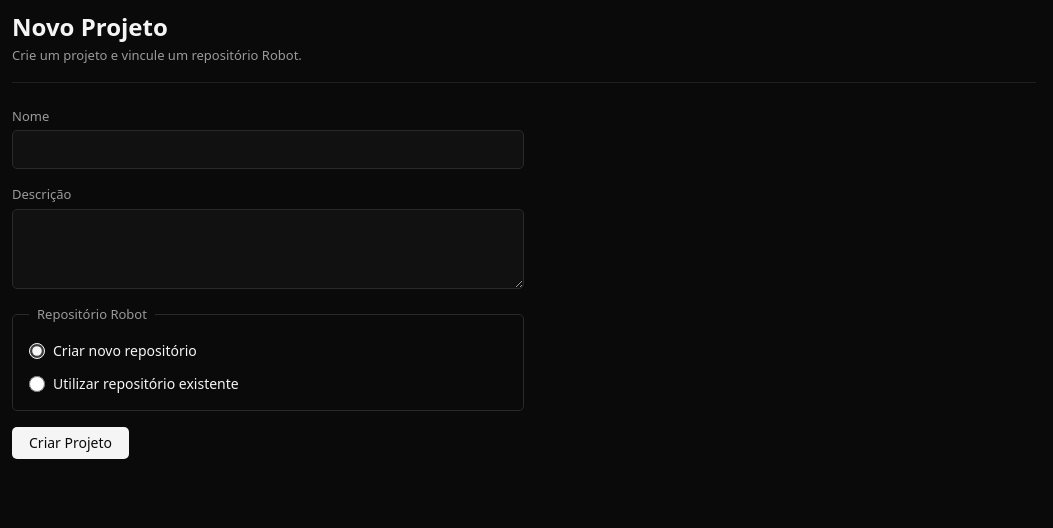
Test: NewProjectScreen (PRD §6, §14) › surfaces a validation error when the existing repo is invalid
Type "Banco" into the field labelled "Nome" at [268, 150], box [12,130,524,169]
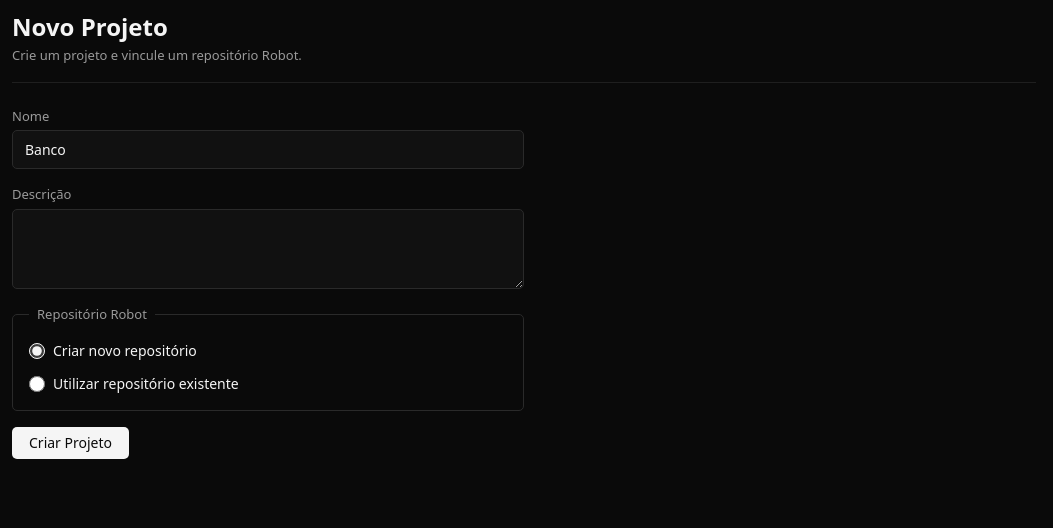
Click the radio button labelled "Utilizar repositório existente" at [37, 384], box [29,376,45,392]
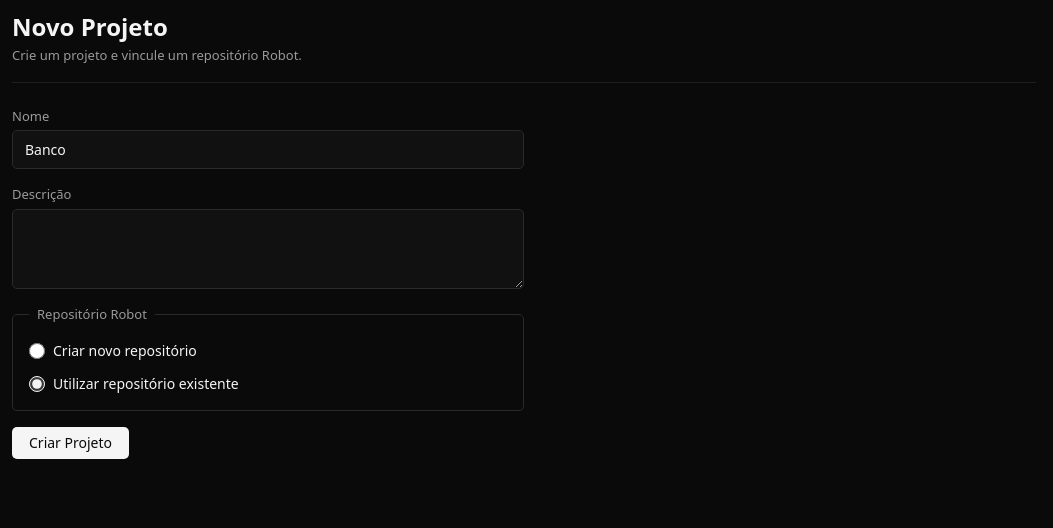
Click the button "Criar Projeto" at [70, 443], box [12,427,129,459]
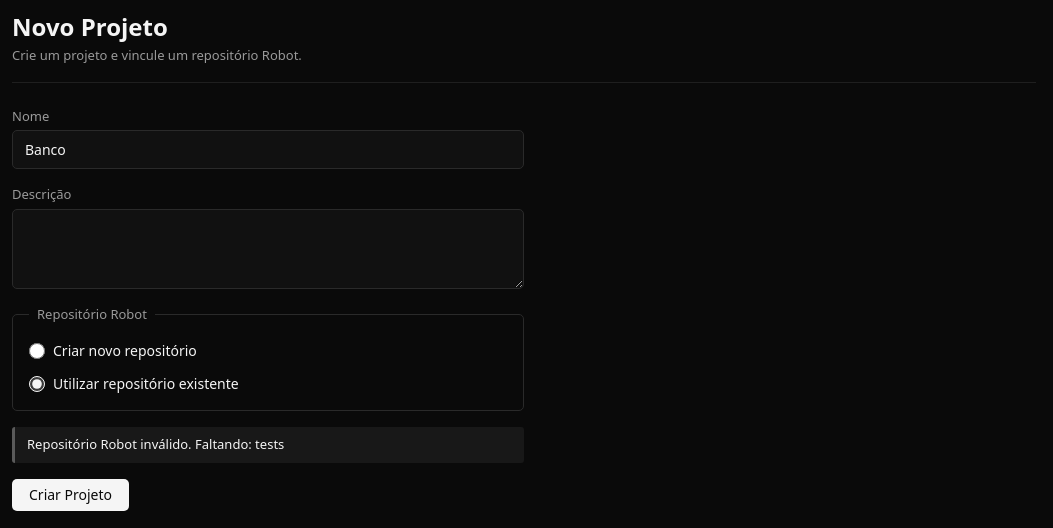
Now the message shows "Repositório Robot inválido", box [27,435,284,453]
